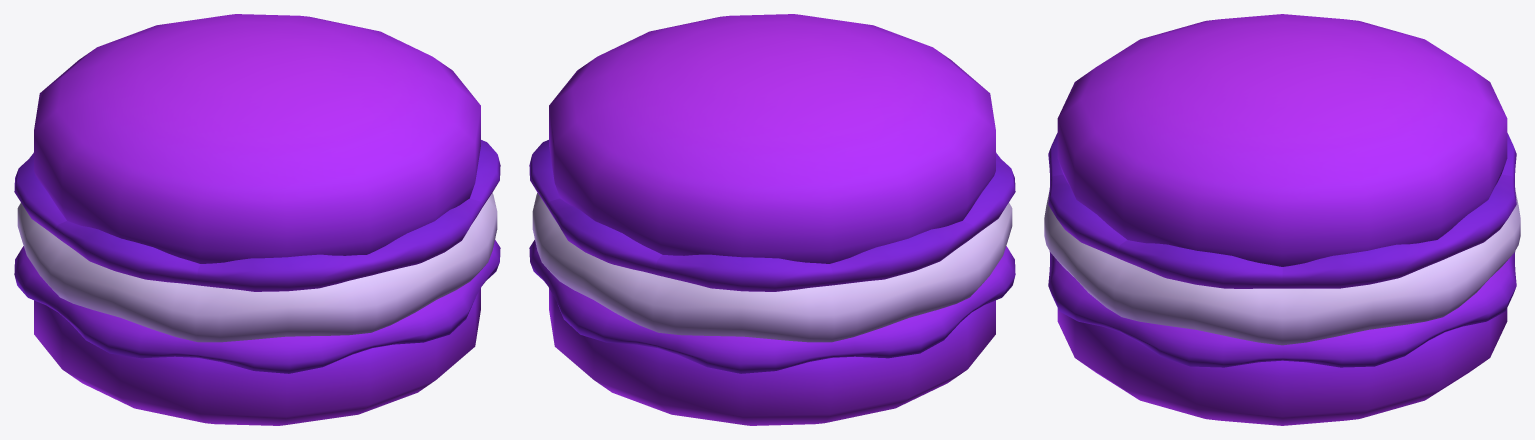
The model's file is Macaron_V1_02.fbx.
3 views of the same model, side by side, from view 1: azimuth 30°, elevation 25°; view 2: azimuth 150°, elevation 25°; view 3: azimuth 270°, elevation 25° (orthographic).
Parts seen in each view (by area): view 1: Macaron_V1_02; view 2: Macaron_V1_02; view 3: Macaron_V1_02.
Part boxes in pixels (x1=…): Macaron_V1_02: x1=14, y1=14, x2=500, y2=425; Macaron_V1_02: x1=529, y1=14, x2=1015, y2=425; Macaron_V1_02: x1=1044, y1=14, x2=1520, y2=425.
Size of the model in its own units: 27.03 by 19.94 by 27.03.
